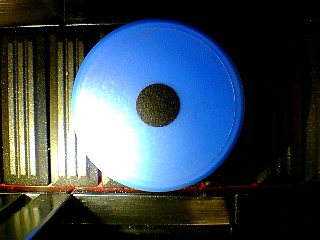BOHO: (70, 19, 244, 192)
